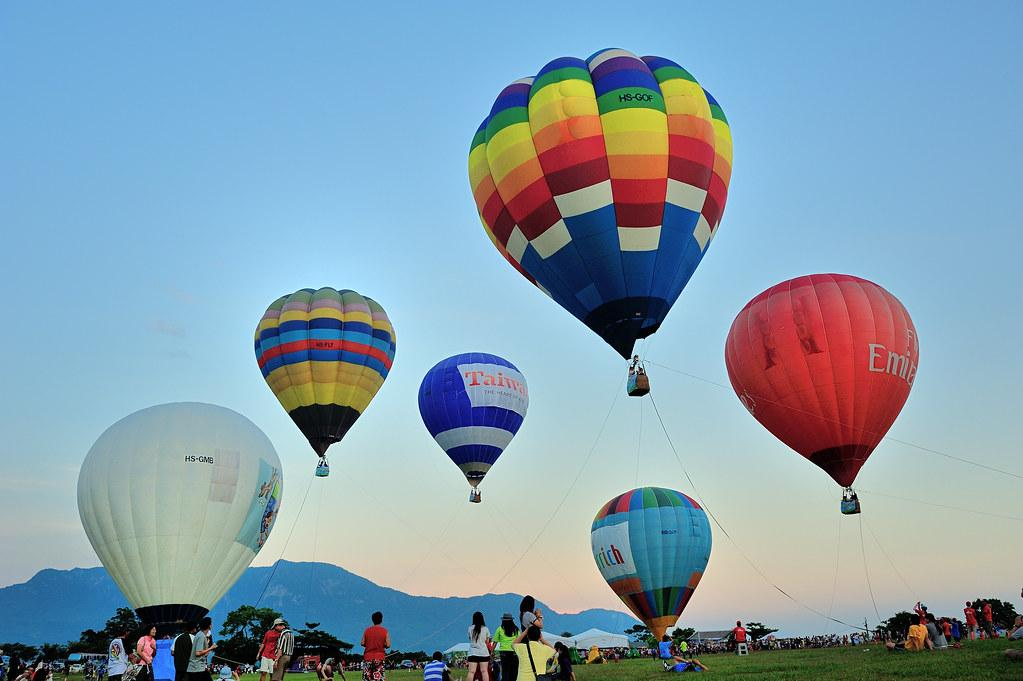balloon: (467, 46, 734, 396), (724, 271, 921, 515)
